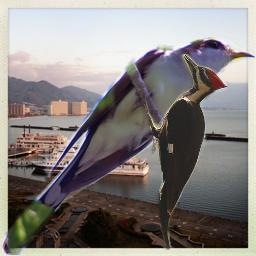Cuckoo: (2, 37, 255, 255)
Woodpecker: (138, 54, 227, 250)
